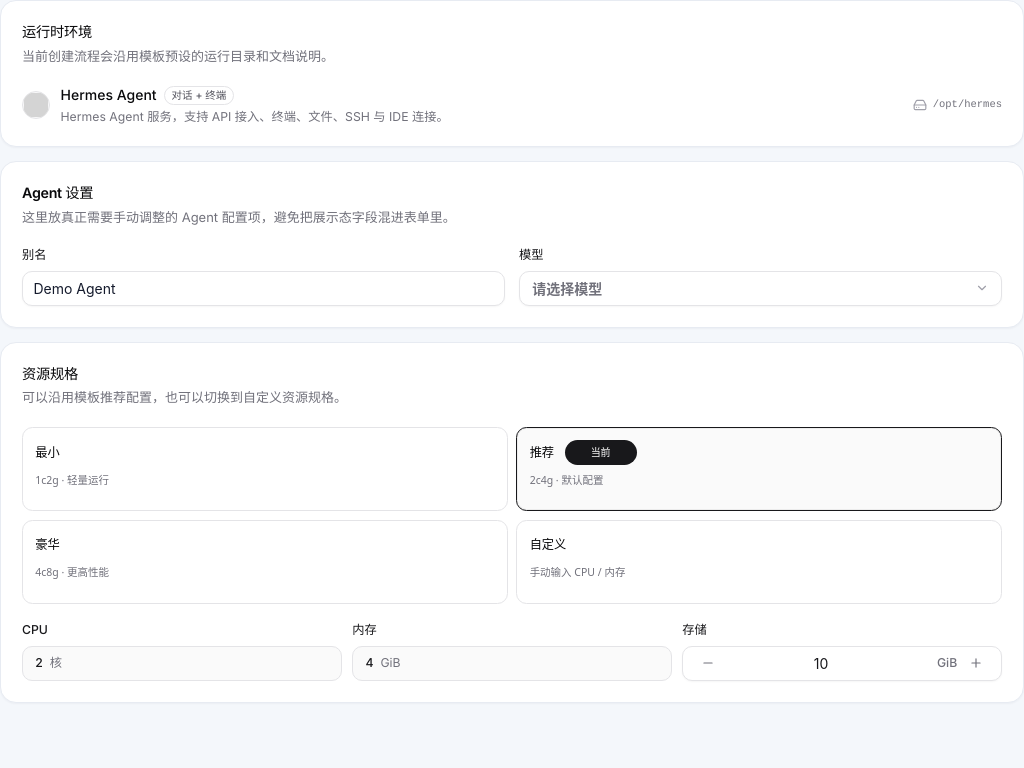
AgentConfigForm › only renders the catalog options passed from the current regional template snapshot
Step 1. Click the button "请选择模型" → click(567, 288), box [519,271,1002,306]
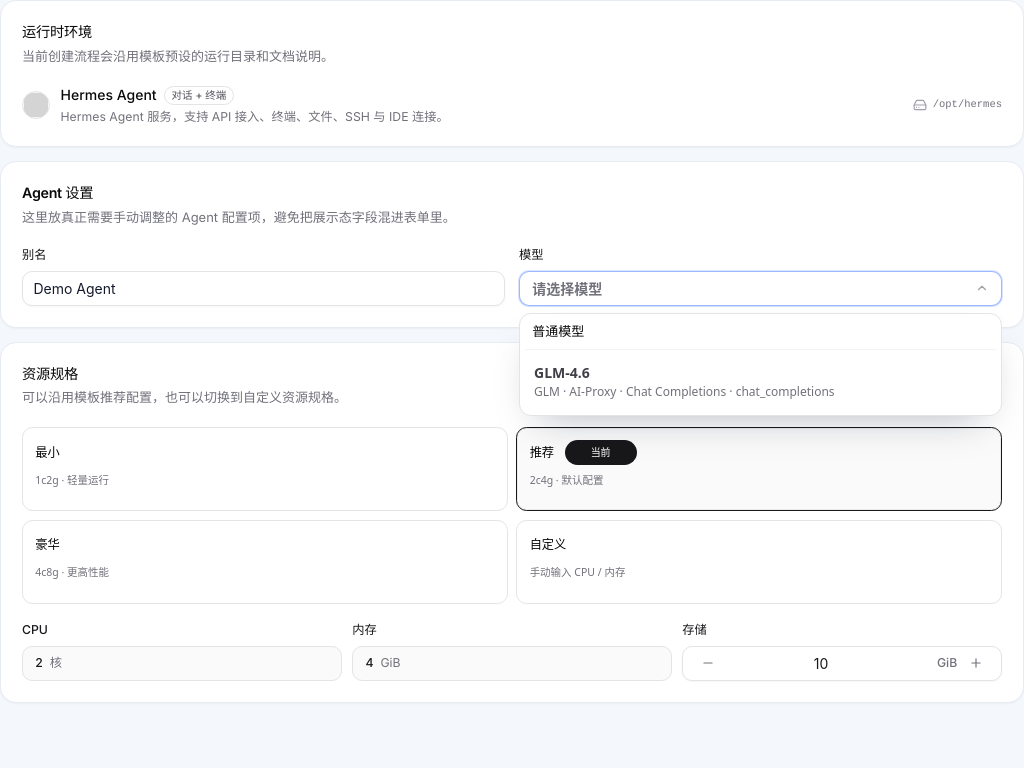
Expected: the text "GLM-4.6" is shown, [534,363,590,382]
